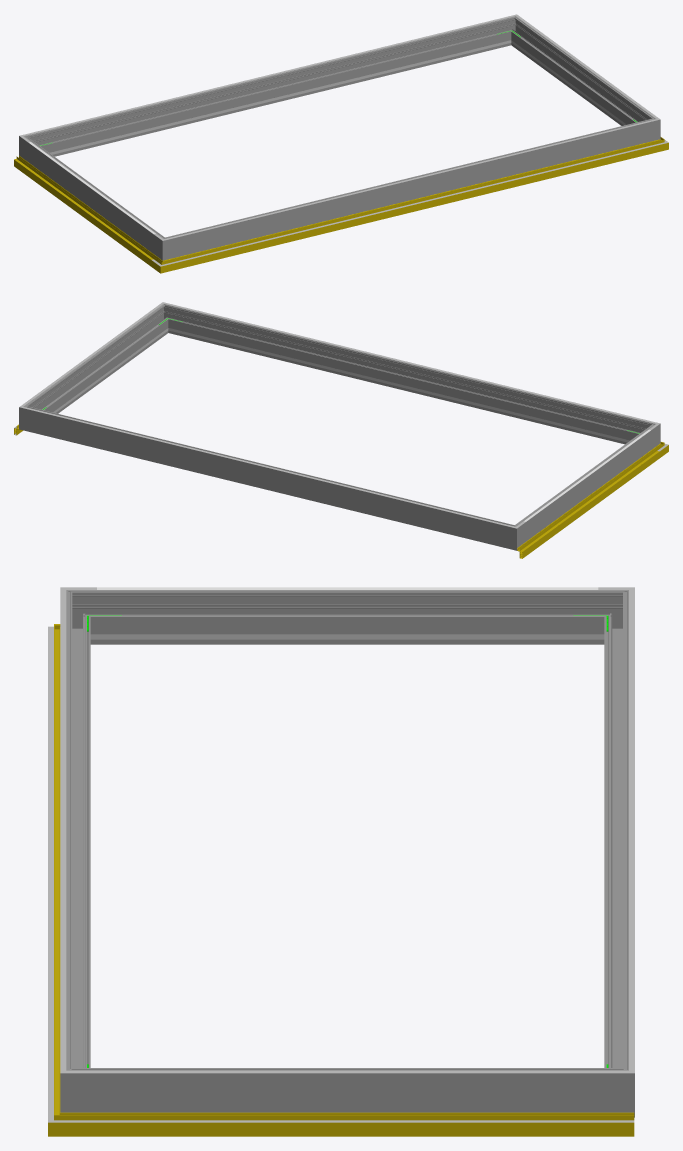
The picture shows the model from 3 angles, top to bottom: view 1: azimuth 30°, elevation 25°; view 2: azimuth 150°, elevation 25°; view 3: azimuth 270°, elevation 25°; orthographic projection. The views are drawn at different scales.
Visible parts, largest first — view 1: 3DGeom-276, 3DGeom-298, 3DGeom-90, 3DGeom-297, 3DGeom-268, 3DGeom-85, 3DGeom-244, 3DGeom-100, 3DGeom-316, 3DGeom-304, 3DGeom-270, 3DGeom-105 (+3 smaller); view 2: 3DGeom-298, 3DGeom-276, 3DGeom-297, 3DGeom-268, 3DGeom-85, 3DGeom-239, 3DGeom-304, 3DGeom-316, 3DGeom-278, 3DGeom-105, 3DGeom-284, 3DGeom-313 (+1 smaller); view 3: 3DGeom-268, 3DGeom-297, 3DGeom-97, 3DGeom-298, 3DGeom-276, 3DGeom-90, 3DGeom-316, 3DGeom-100, 3DGeom-304, 3DGeom-232, 3DGeom-303, 3DGeom-98 (+6 smaller).
Boxes of the visible parts, bbox=[...] form: 3DGeom-276: bbox=[36, 19, 508, 156]; 3DGeom-298: bbox=[176, 121, 644, 256]; 3DGeom-90: bbox=[173, 142, 652, 269]; 3DGeom-297: bbox=[513, 21, 648, 125]; 3DGeom-268: bbox=[28, 141, 158, 253]; 3DGeom-85: bbox=[14, 155, 156, 266]; 3DGeom-244: bbox=[55, 44, 495, 153]; 3DGeom-100: bbox=[175, 145, 652, 262]; 3DGeom-316: bbox=[177, 122, 644, 236]; 3DGeom-304: bbox=[35, 18, 501, 132]; 3DGeom-270: bbox=[153, 233, 178, 260]; 3DGeom-105: bbox=[14, 159, 153, 259]; 3DGeom-298: bbox=[171, 307, 643, 444]; 3DGeom-276: bbox=[35, 409, 503, 546]; 3DGeom-297: bbox=[31, 309, 166, 413]; 3DGeom-268: bbox=[521, 429, 651, 541]; 3DGeom-85: bbox=[517, 448, 659, 558]; 3DGeom-239: bbox=[183, 331, 624, 441]; 3DGeom-304: bbox=[35, 410, 501, 524]; 3DGeom-316: bbox=[178, 306, 643, 420]; 3DGeom-278: bbox=[501, 521, 525, 550]; 3DGeom-105: bbox=[520, 451, 659, 552]; 3DGeom-284: bbox=[19, 401, 37, 432]; 3DGeom-313: bbox=[524, 429, 650, 521]; 3DGeom-268: bbox=[97, 590, 598, 644]; 3DGeom-297: bbox=[97, 1068, 598, 1112]; 3DGeom-97: bbox=[84, 1112, 634, 1136]; 3DGeom-298: bbox=[66, 603, 90, 1067]; 3DGeom-276: bbox=[604, 603, 628, 1067]; 3DGeom-90: bbox=[54, 637, 60, 1107]; 3DGeom-316: bbox=[60, 603, 66, 1057]; 3DGeom-100: bbox=[48, 642, 53, 1107]; 3DGeom-304: bbox=[629, 603, 634, 1057]; 3DGeom-232: bbox=[126, 634, 568, 639]; 3DGeom-303: bbox=[97, 1070, 598, 1073]; 3DGeom-98: bbox=[84, 1120, 634, 1122].
Bounding box in the file's own units: 4.88 × 0.2667 × 2.44.
